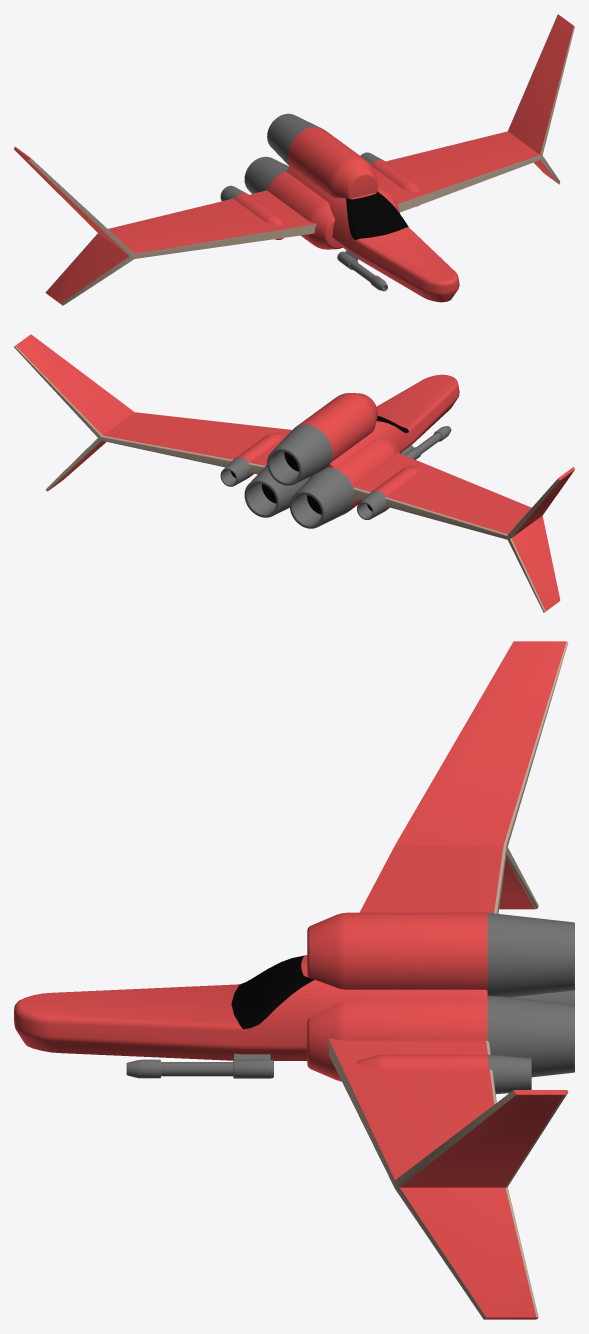
Rendered from ship1.fbx.
3 renders of one model, top to bottom at view 1: azimuth 30°, elevation 25°; view 2: azimuth 150°, elevation 25°; view 3: azimuth 270°, elevation 25°, orthographic. The views are drawn at different scales.
Visible parts, largest first — view 1: body, ThrusterTop, ThrusterTop.002, thrusterFarRight, thrusterFarLeft, guns; view 2: body, ThrusterTop, ThrusterTop.002, ThrusterTop.001, thrusterFarRight, thrusterFarLeft, guns; view 3: body, ThrusterTop, ThrusterTop.001, thrusterFarLeft, guns.
Boxes of the visible parts, x1=… form: body: x1=14, y1=14, x2=574, y2=305; ThrusterTop: x1=267, y1=113, x2=377, y2=198; ThrusterTop.002: x1=244, y1=156, x2=342, y2=249; thrusterFarRight: x1=220, y1=185, x2=283, y2=239; thrusterFarLeft: x1=360, y1=152, x2=418, y2=206; guns: x1=337, y1=249, x2=387, y2=291; body: x1=14, y1=334, x2=574, y2=612; ThrusterTop: x1=267, y1=393, x2=377, y2=485; ThrusterTop.002: x1=289, y1=437, x2=400, y2=528; ThrusterTop.001: x1=244, y1=465, x2=309, y2=517; thrusterFarRight: x1=357, y1=466, x2=418, y2=519; thrusterFarLeft: x1=220, y1=432, x2=282, y2=486; guns: x1=400, y1=426, x2=451, y2=459; body: x1=14, y1=641, x2=568, y2=1319; ThrusterTop: x1=307, y1=912, x2=574, y2=997; ThrusterTop.001: x1=307, y1=996, x2=574, y2=1081; thrusterFarLeft: x1=356, y1=1054, x2=531, y2=1094; guns: x1=126, y1=1053, x2=273, y2=1078.
Size of the model in its own units: 25 by 13.12 by 6.42.
